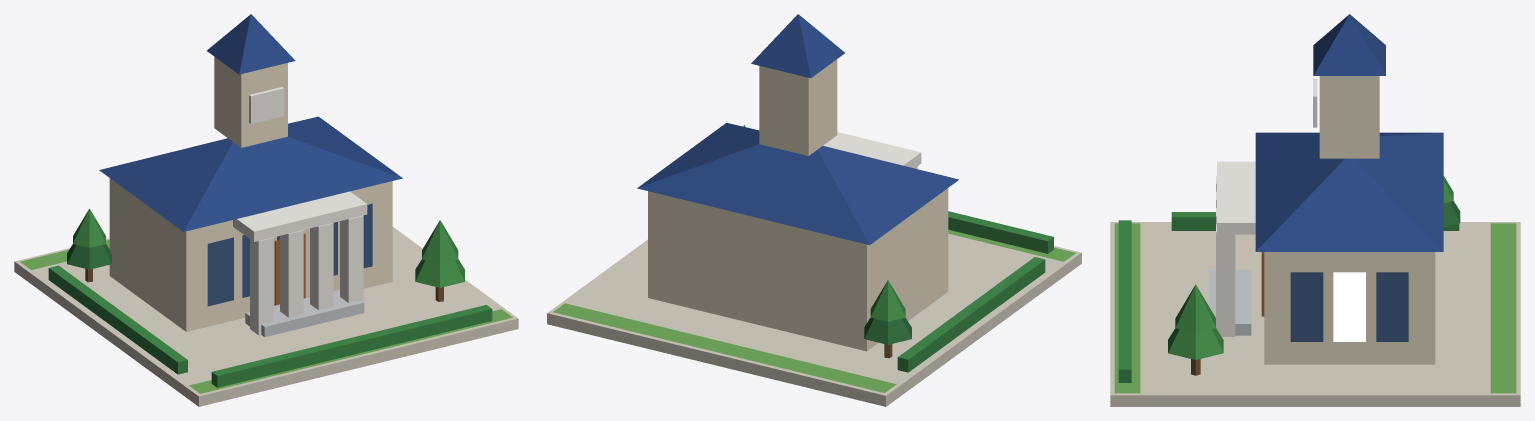
3 renders of one model, left to right at view 1: azimuth 30°, elevation 25°; view 2: azimuth 150°, elevation 25°; view 3: azimuth 270°, elevation 25°, orthographic. The views are drawn at different scales.
Visible parts, largest first — view 1: b21; view 2: b21; view 3: b21.
Boxes of the visible parts, x1,y1,x2,y2 form: b21: (14,14,518,406); b21: (547,14,1081,406); b21: (1110,14,1520,406).
Bounding box in the file's own units: 0.96 × 0.79 × 0.96.
